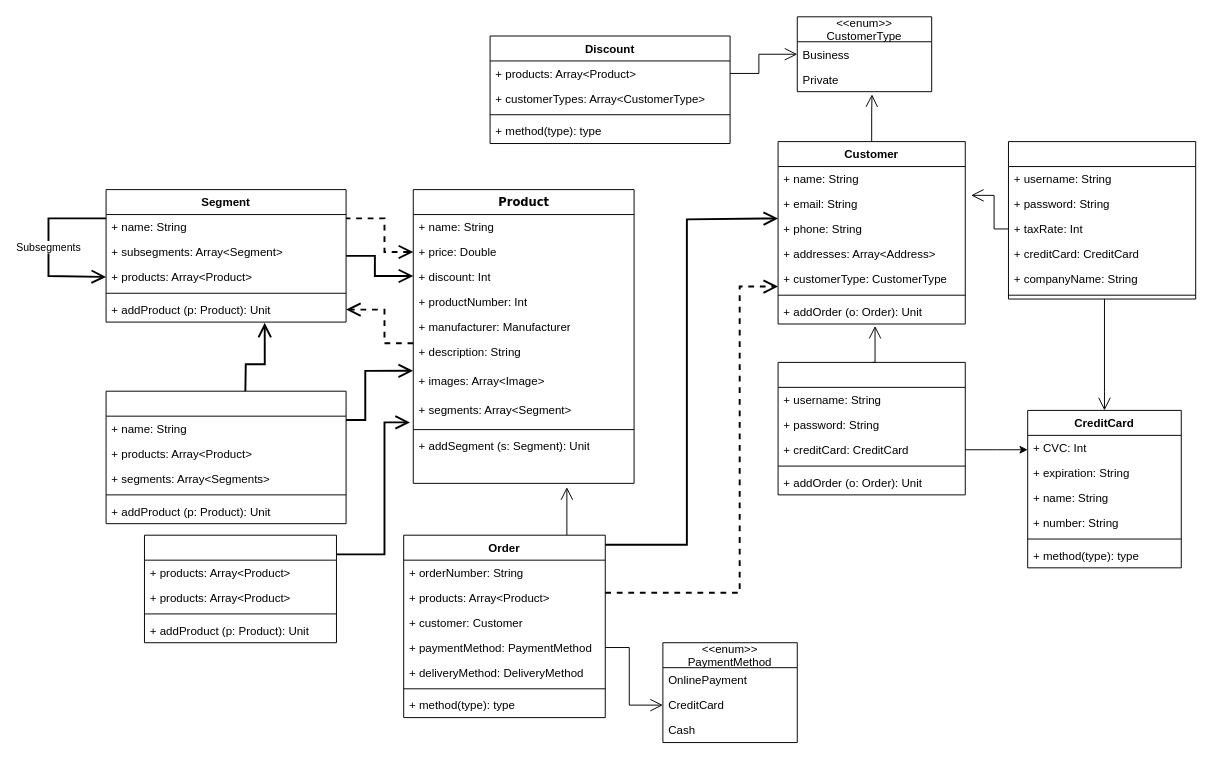
Some shapes in this 1212 by 762 pixel diagram are drawn without their labels. The box of each missing label's shape, as (x1, y1, x2, y2) in pixels:
BusinessCustomer: (1008, 141, 1196, 299)
Manufacturer: (105, 390, 346, 524)
PrivateCustomer: (777, 361, 965, 495)
ProductPackage: (144, 534, 336, 643)
